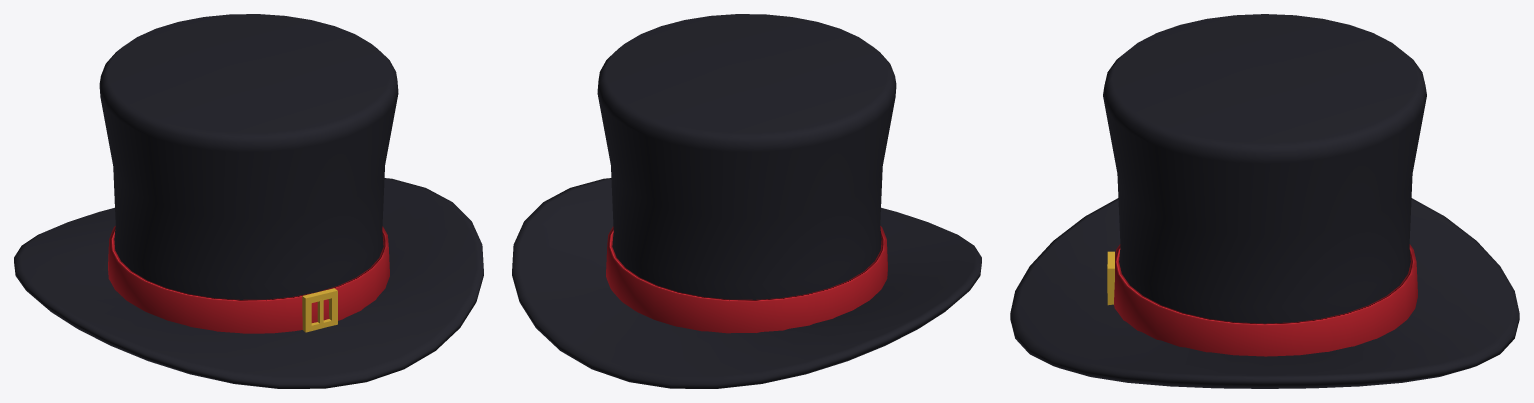
Rendered from tophat.obj.
3 renders of one model, left to right at view 1: azimuth 30°, elevation 25°; view 2: azimuth 150°, elevation 25°; view 3: azimuth 270°, elevation 25°, orthographic. The views are drawn at different scales.
Visible parts, largest first — view 1: Cartola; view 2: Cartola; view 3: Cartola.
Part boxes in pixels (x1,y1,x2,y2): Cartola: (14, 14, 483, 388); Cartola: (512, 14, 981, 388); Cartola: (1010, 14, 1519, 388).
Bounding box in the file's own units: 1.65 × 0.8711 × 1.65.
